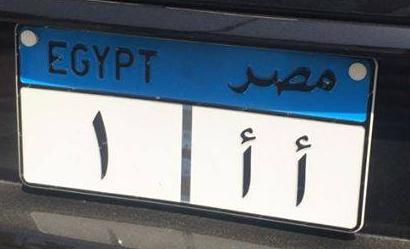1: (88, 107, 119, 182)
alif: (290, 129, 313, 216), (234, 124, 258, 204)
